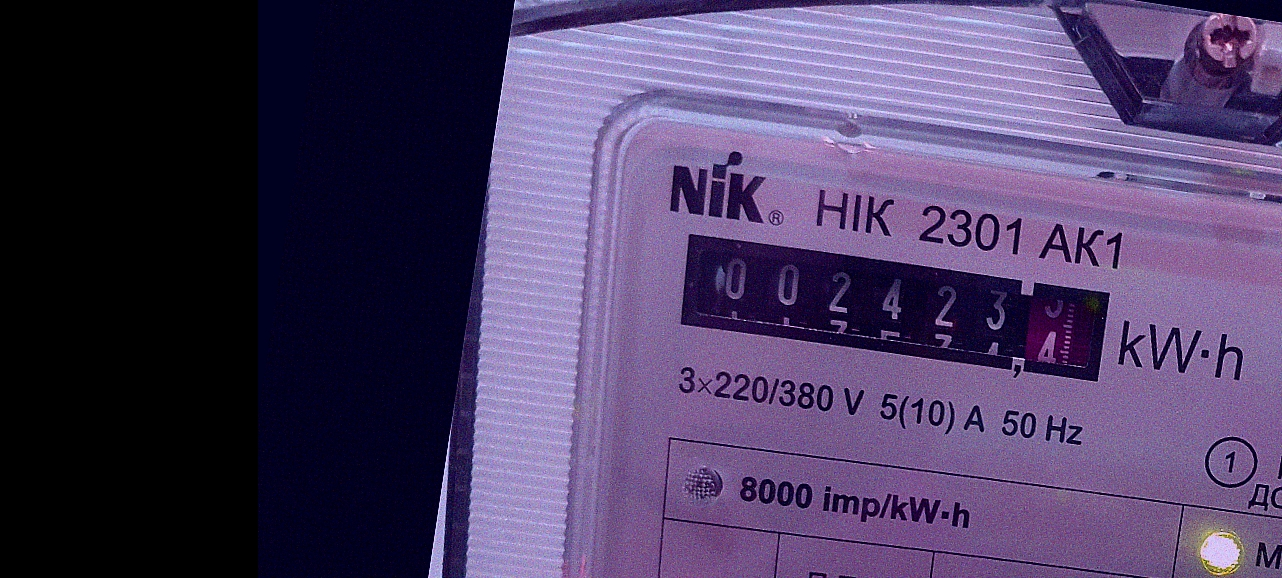0: (720, 252, 753, 303), (773, 260, 804, 308)
2: (824, 266, 856, 316), (931, 281, 961, 330)
3: (982, 285, 1012, 333), (1042, 294, 1066, 320)
4: (878, 274, 907, 322), (1034, 324, 1064, 365)
screen: (664, 216, 1126, 400)
